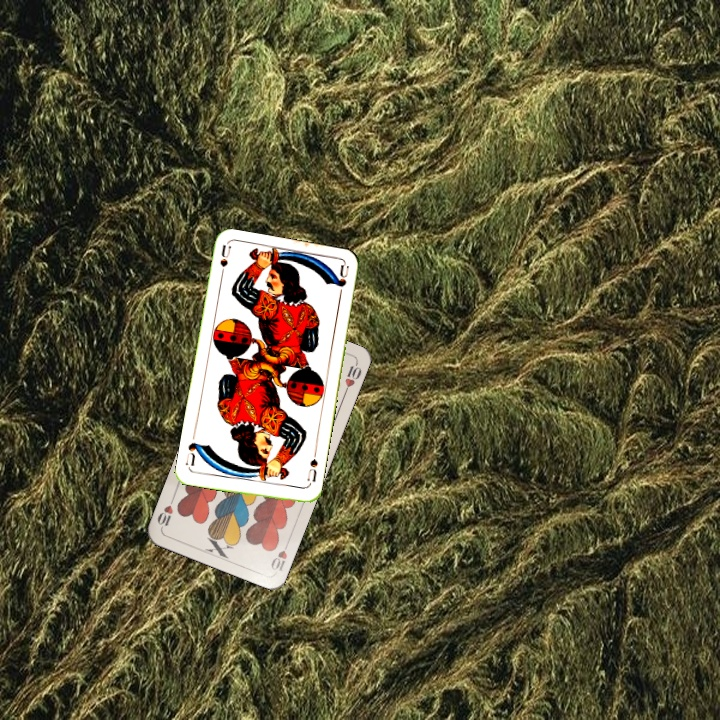H10: (267, 536, 292, 574)
SU: (216, 242, 233, 283), (303, 455, 320, 484)
